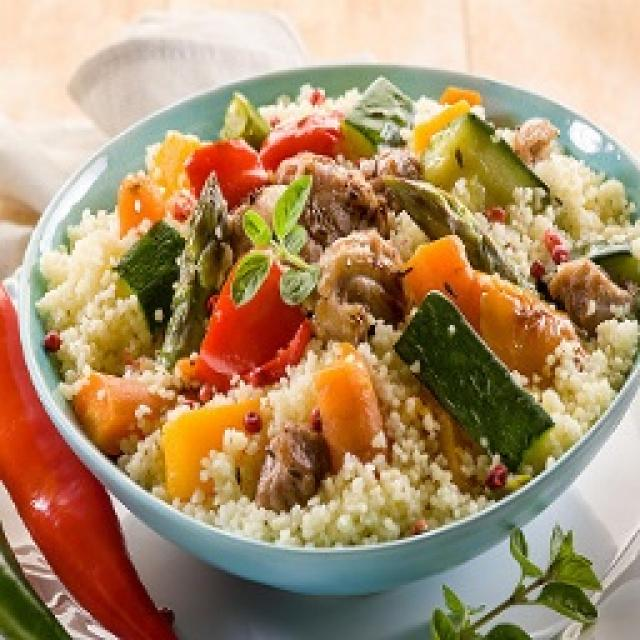Couscous: (40, 78, 640, 547)
